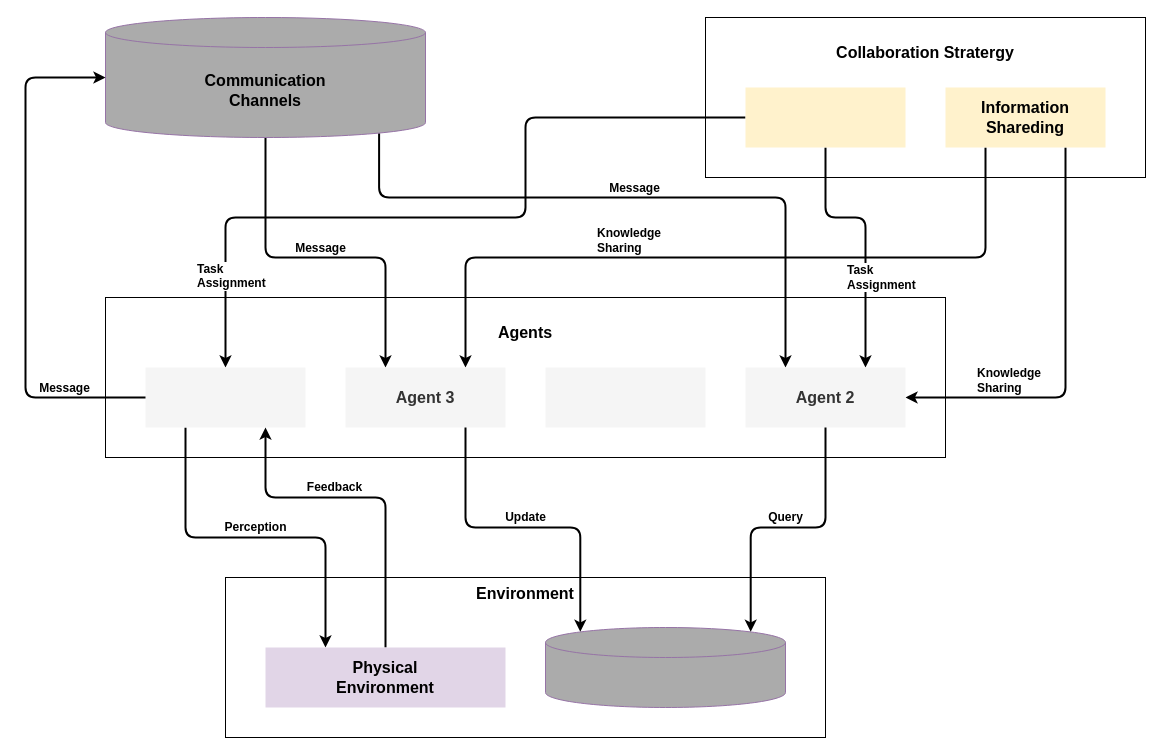
The diagram is 1163 pixels wide and 755 high, and some of its shapes have lost their labels. Here are the shapes that lost their labels. From the top down, the centre of each, then its label:
At point (825, 117): "Task Allocation".
At point (225, 397): "Agent 1".
At point (625, 397): "Agent 4".
At point (665, 667): "Knowledge Base".
